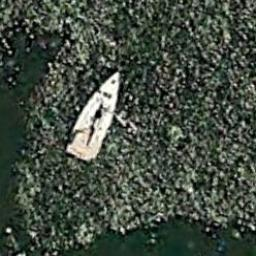boat: (62, 69, 121, 163)
